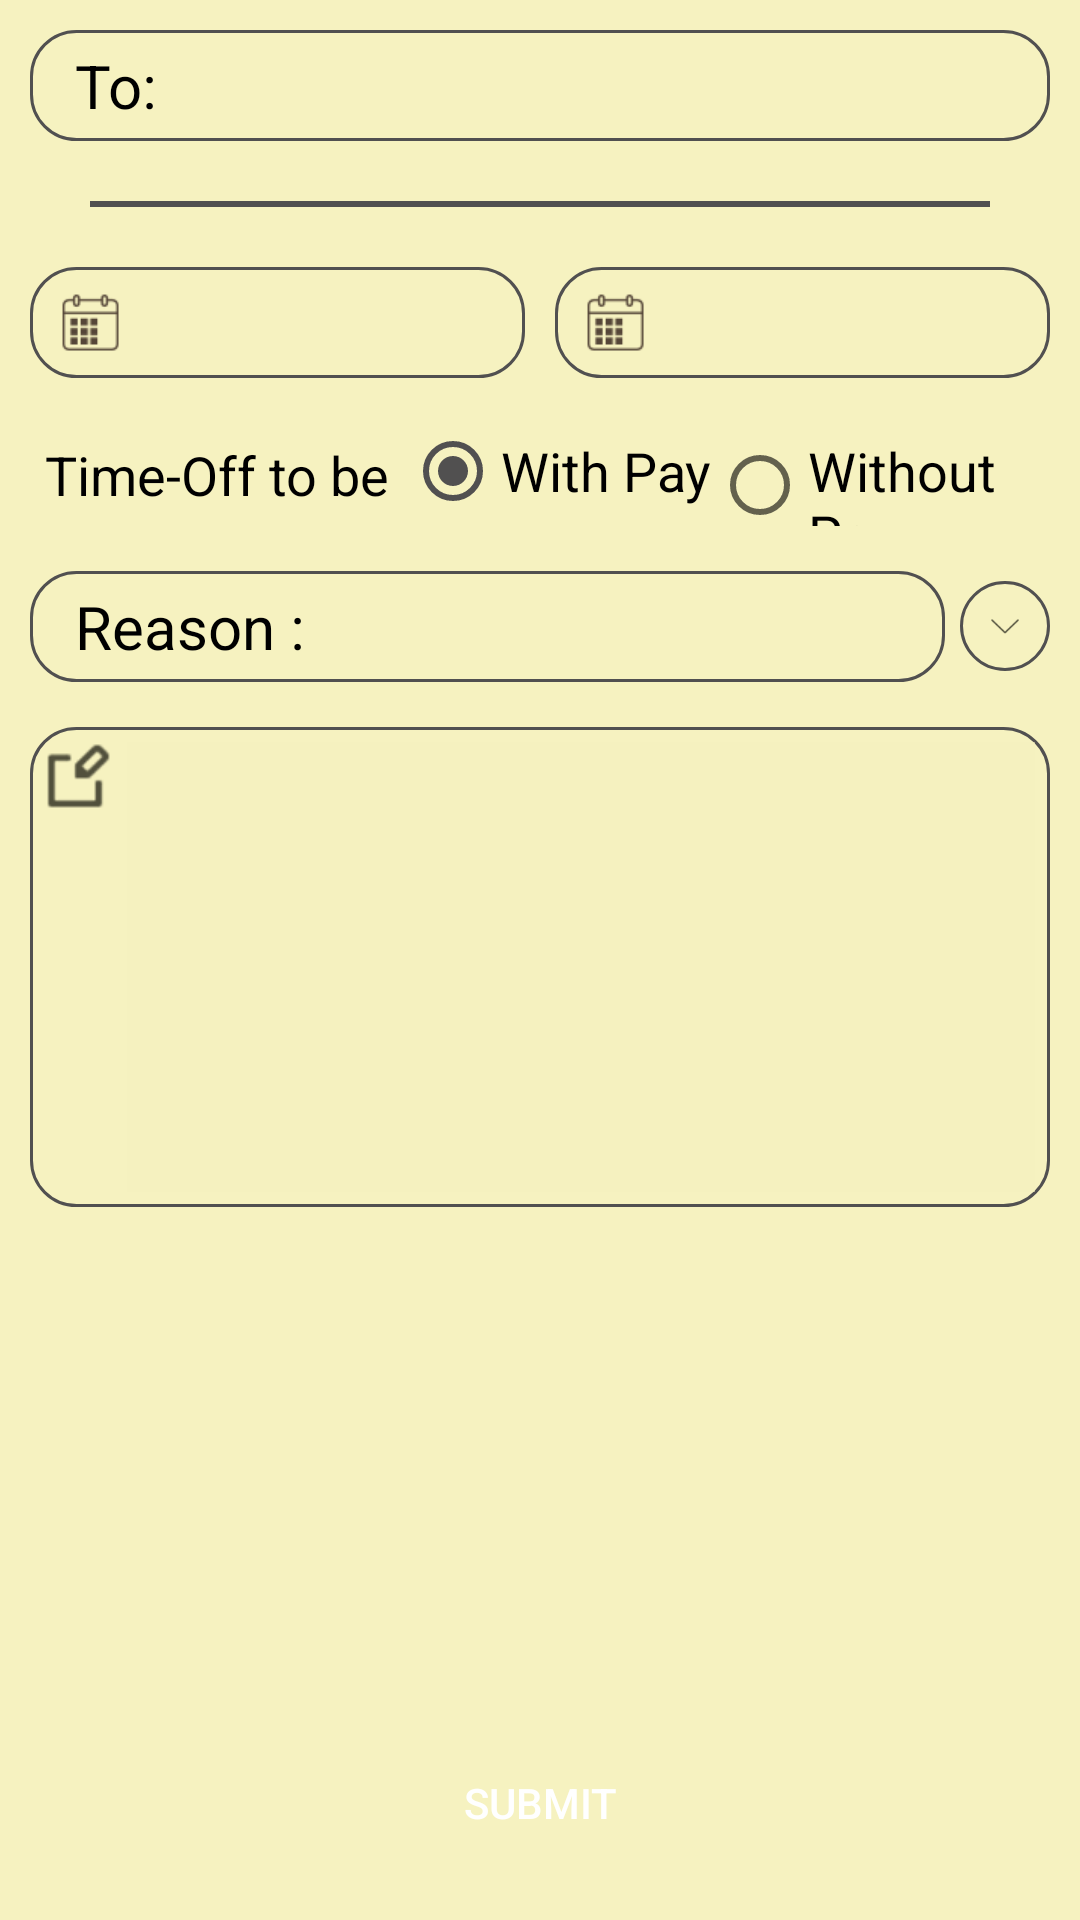

Named icons in this screenshot (1080px x 1920px) and their bounding boxes, (x1, y1, x2, y2):
calender: (62, 294, 119, 351), (587, 294, 644, 351)
dropdown: (960, 581, 1050, 671)
notes: (47, 744, 110, 808)
